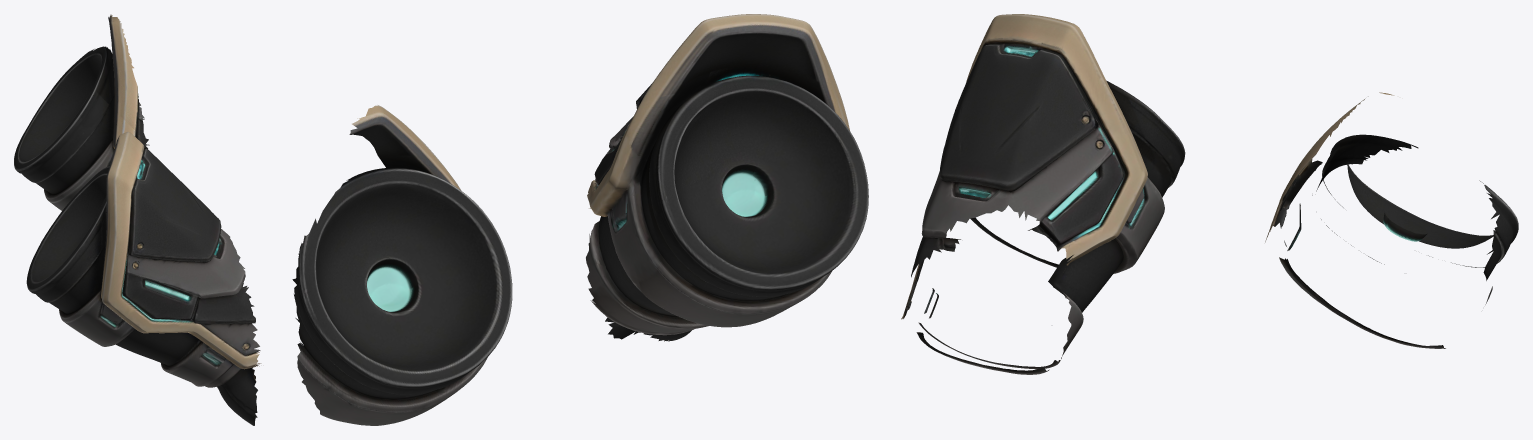
File: gauntlet_l.glb
3 renders of one model, left to right at view 1: azimuth 30°, elevation 25°; view 2: azimuth 150°, elevation 25°; view 3: azimuth 270°, elevation 25°, orthographic. The views are drawn at different scales.
Parts seen in each view (by area): view 1: tripo_node_ef5a524b-498e-4954-bb6b-68a9ebbacbfe.001; view 2: tripo_node_ef5a524b-498e-4954-bb6b-68a9ebbacbfe.001; view 3: tripo_node_ef5a524b-498e-4954-bb6b-68a9ebbacbfe.001.
Part boxes in pixels (x1,y1,x2,y2): tripo_node_ef5a524b-498e-4954-bb6b-68a9ebbacbfe.001: [14, 14, 261, 425]; tripo_node_ef5a524b-498e-4954-bb6b-68a9ebbacbfe.001: [292, 14, 868, 425]; tripo_node_ef5a524b-498e-4954-bb6b-68a9ebbacbfe.001: [901, 14, 1518, 374].
Bounding box in the file's own units: 0.5018 × 0.5983 × 0.9419.
Materials: 1 (1 with a texture image).
